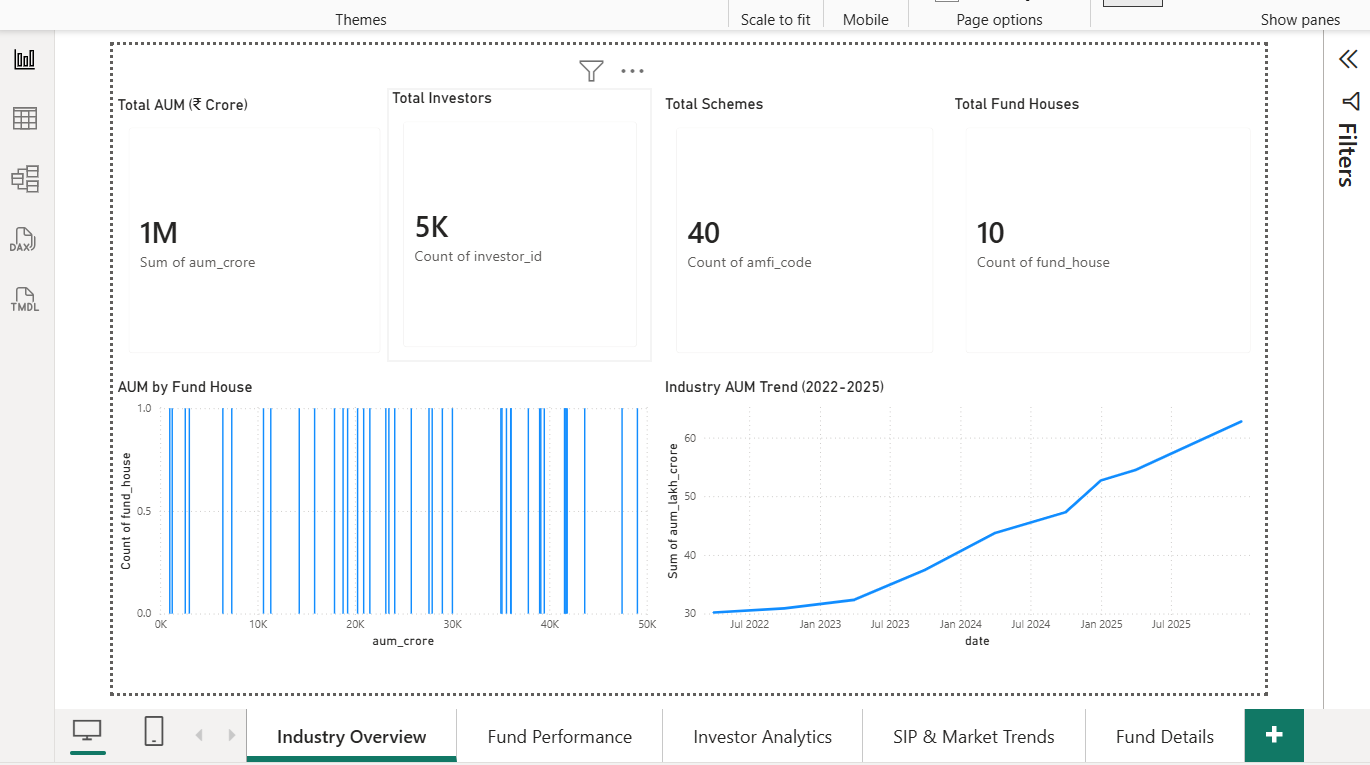

Layout of this report page (visuals, bound fields, positions):
{"tool":"powerbi","page":{"name":"Industry Overview","canvas":[1280,720],"ordinal":0},"visuals":[{"type":"cardVisual","title":"Total AUM (₹ Crore)","fields":{"Data":["Sum(scheme_performance_clean.aum_crore)"]},"box":[0,55.1,314.1,304.4],"z":0},{"type":"cardVisual","title":"Total Investors","fields":{"Data":["Count(investor_transactions_clean.investor_id)"]},"box":[314.1,55.1,294.7,304.4],"z":1000},{"type":"cardVisual","title":"Total Schemes","fields":{"Data":["Count(01_fund_master.amfi_code)"]},"box":[608.8,55.1,320.6,304.4],"z":2000},{"type":"cardVisual","title":"Total Fund Houses","fields":{"Data":["Count(01_fund_master.fund_house)"]},"box":[929.4,55.1,351.4,304.4],"z":3000},{"type":"clusteredColumnChart","title":"AUM by Fund House","fields":{"Y":["CountNonNull(01_fund_master.fund_house)"],"Category":["scheme_performance_clean.aum_crore"]},"box":[0,369.2,608.8,304.4],"z":4000},{"type":"lineChart","title":"Industry AUM Trend (2022-2025)","fields":{"Y":["Sum(03_aum_by_fund_house.aum_lakh_crore)"],"Category":["03_aum_by_fund_house.date"]},"box":[608.8,369.2,672,304.4],"z":5000}]}

Visuals, with their boxes on the page's 1280x720 design canvas (x1, y1, x2, y2). These are canvas units, not pixel positions in the 1370x765 screenshot, which may show the page scaled, cropped or inside an application window:
"Total AUM (₹ Crore)" cardVisual: <box>0,55,314,360</box>
"Total Investors" cardVisual: <box>314,55,609,360</box>
"Total Schemes" cardVisual: <box>609,55,929,360</box>
"Total Fund Houses" cardVisual: <box>929,55,1281,360</box>
"AUM by Fund House" clusteredColumnChart: <box>0,369,609,674</box>
"Industry AUM Trend (2022-2025)" lineChart: <box>609,369,1281,674</box>
